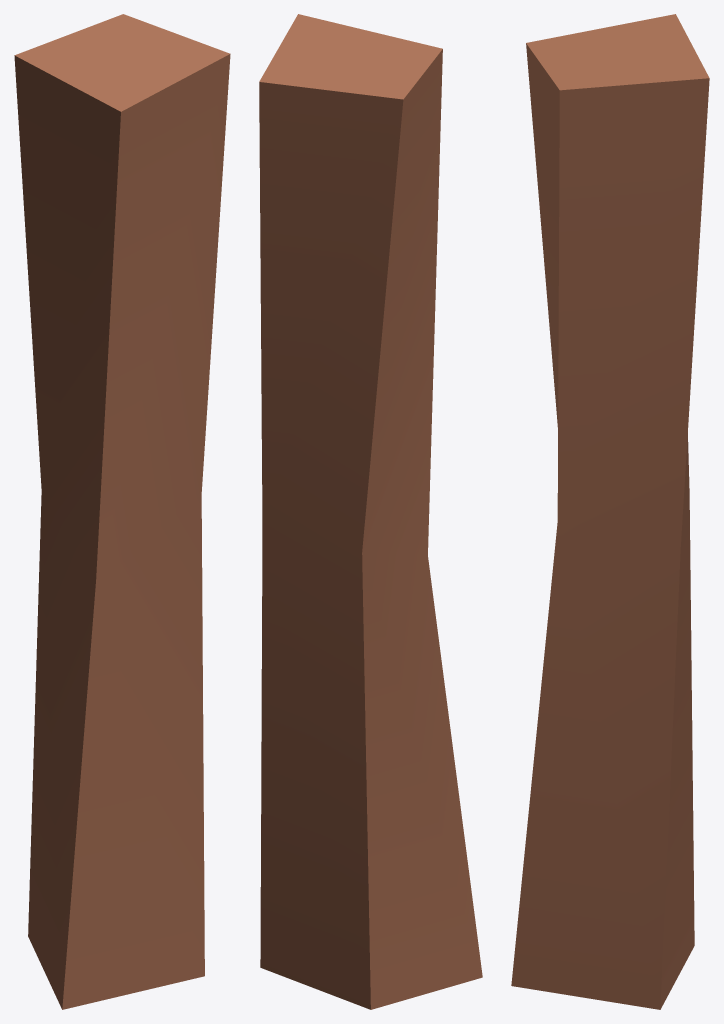
File: ice_pole_wood_1.5.fbx
The picture shows the model from 3 angles, left to right: view 1: azimuth 30°, elevation 25°; view 2: azimuth 150°, elevation 25°; view 3: azimuth 270°, elevation 25°; orthographic projection. The views are drawn at different scales.
Visible parts, largest first — view 1: pole_wood_1.5; view 2: pole_wood_1.5; view 3: pole_wood_1.5.
Boxes of the visible parts, x1,y1,x2,y2 form: pole_wood_1.5: (14, 14, 230, 1009); pole_wood_1.5: (259, 14, 482, 1009); pole_wood_1.5: (511, 14, 709, 1009).
Size of the model in its own units: 0.3686 by 1.83 by 0.3515.
